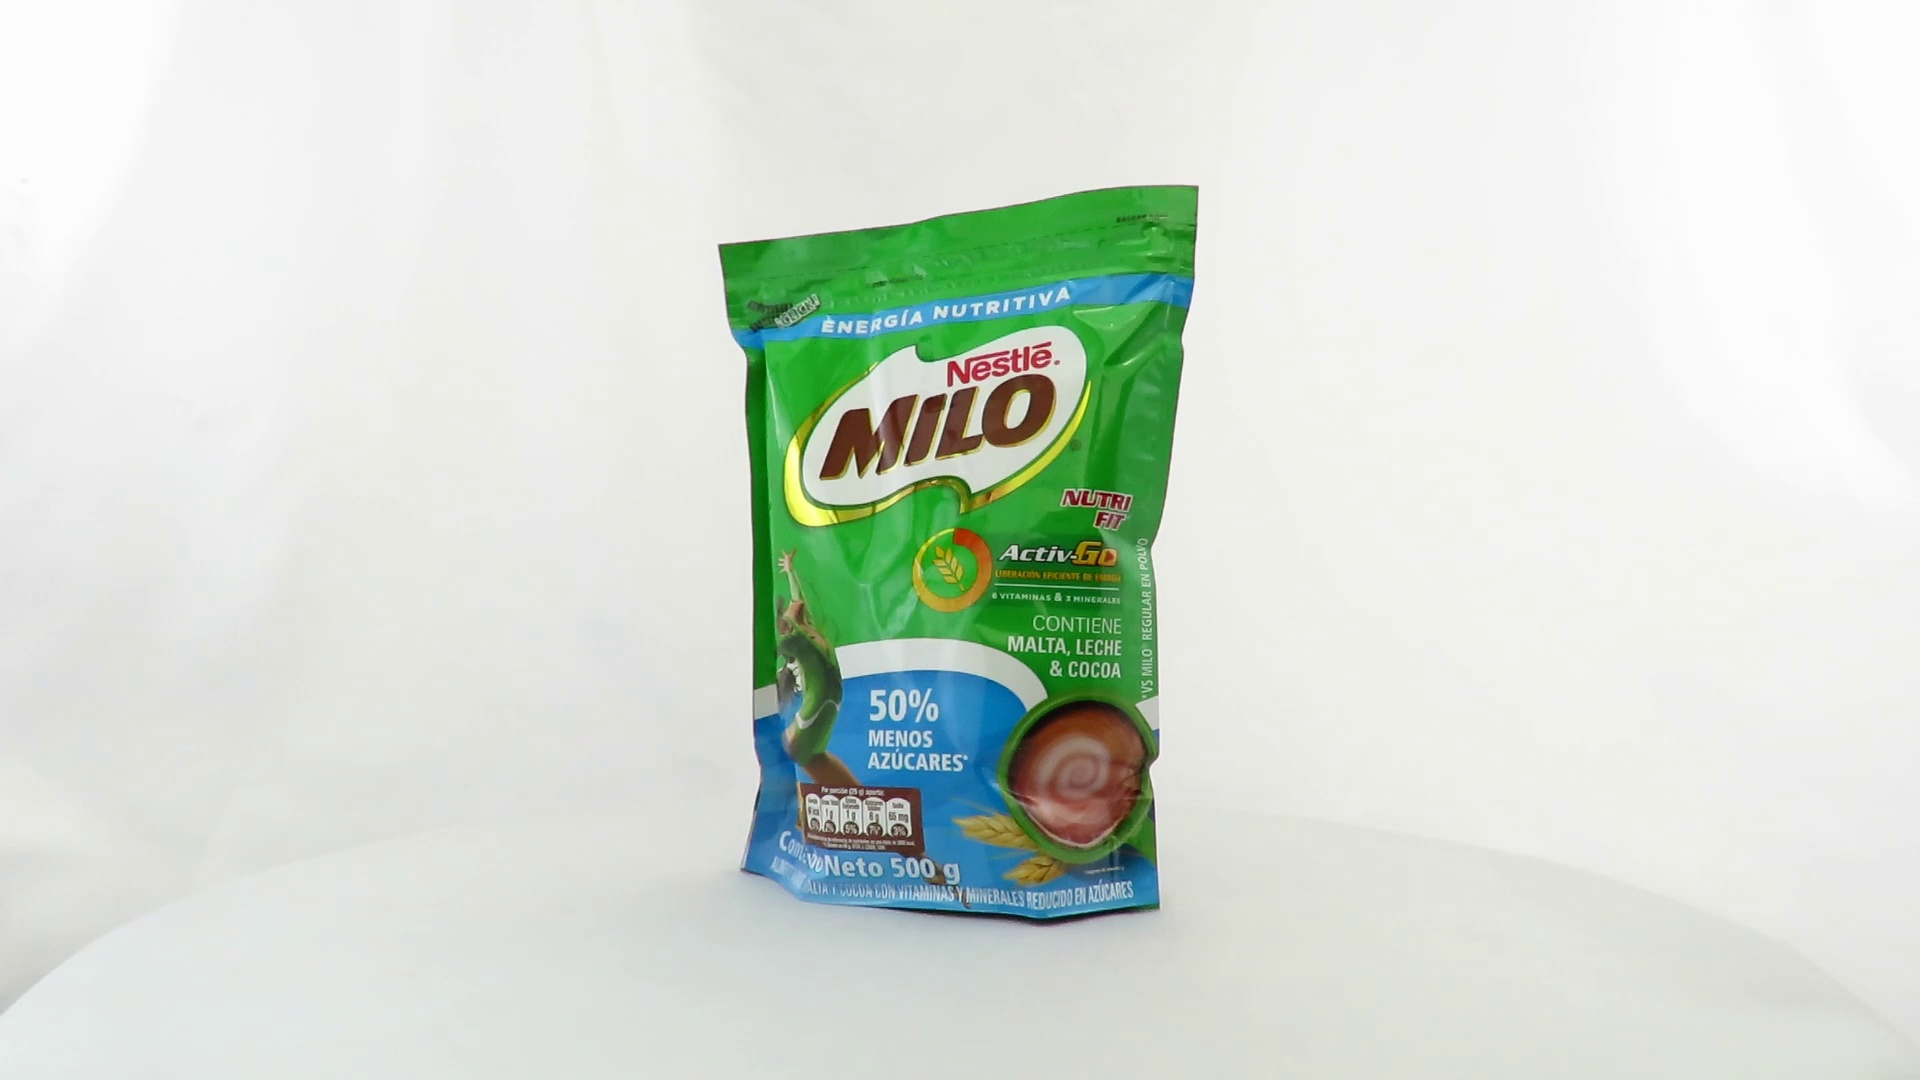COL0170205DYP50000: (713, 179, 1205, 934)
